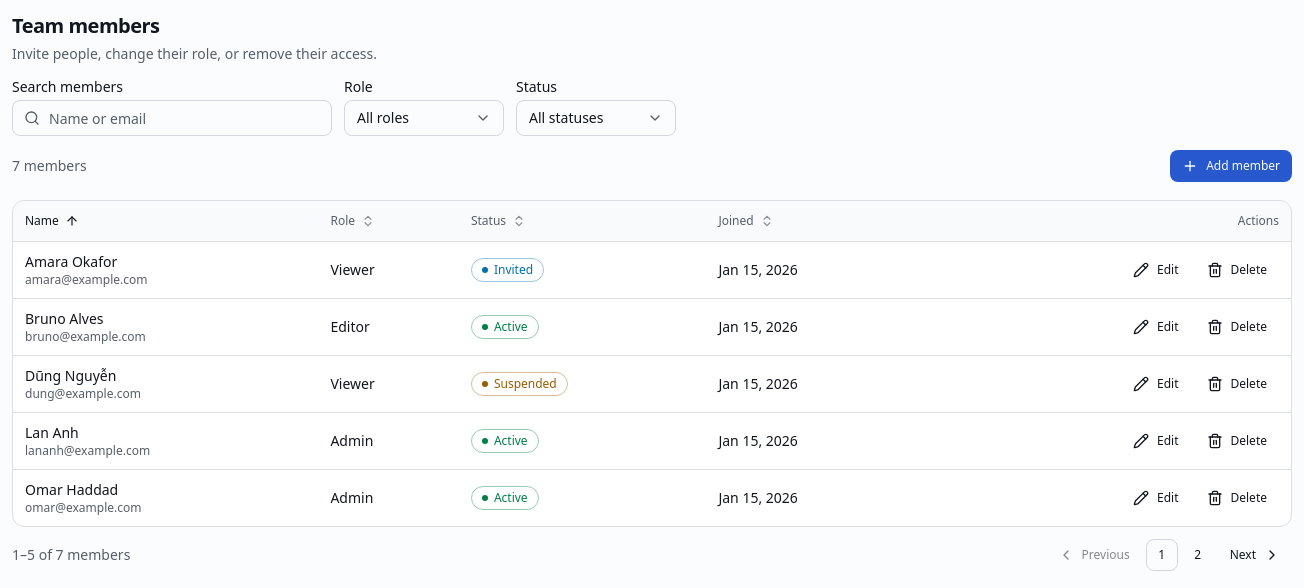
Test: CrudManagementPage › search and filters › finds people regardless of accents and case
The image size is (1304, 588).
Type "NGUYEN" into the search field labelled "Search members".
click(172, 118); type("NGUYEN")  # box x1=12 y1=100 x2=332 y2=136
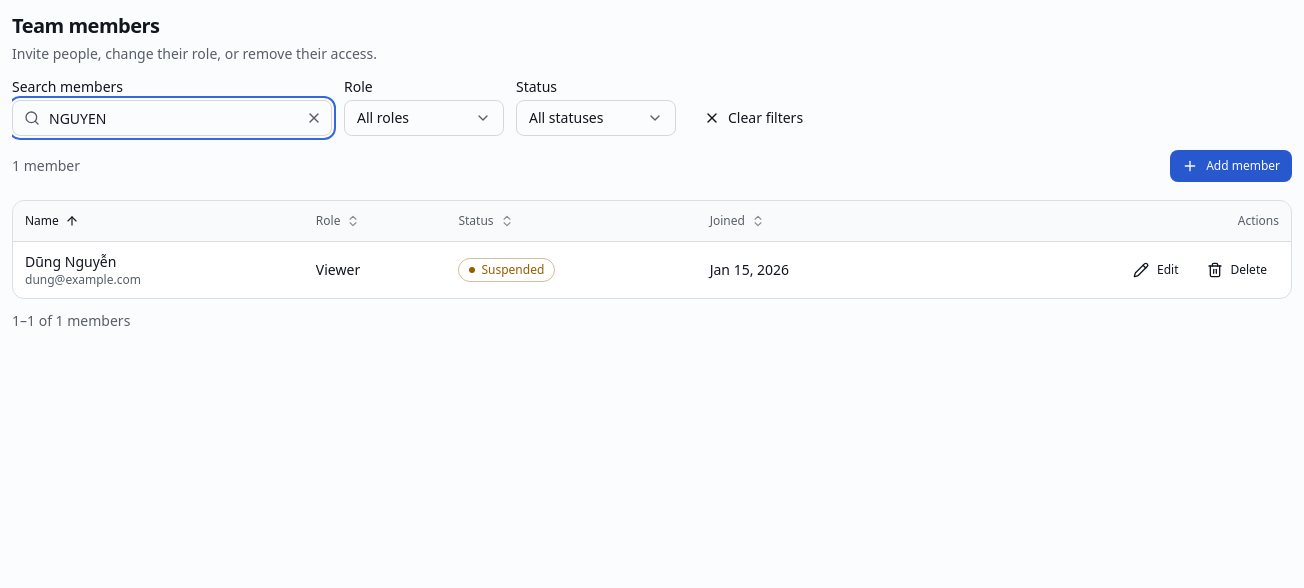
expect the text "1 member" is shown: met, box x1=12 y1=156 x2=80 y2=176
